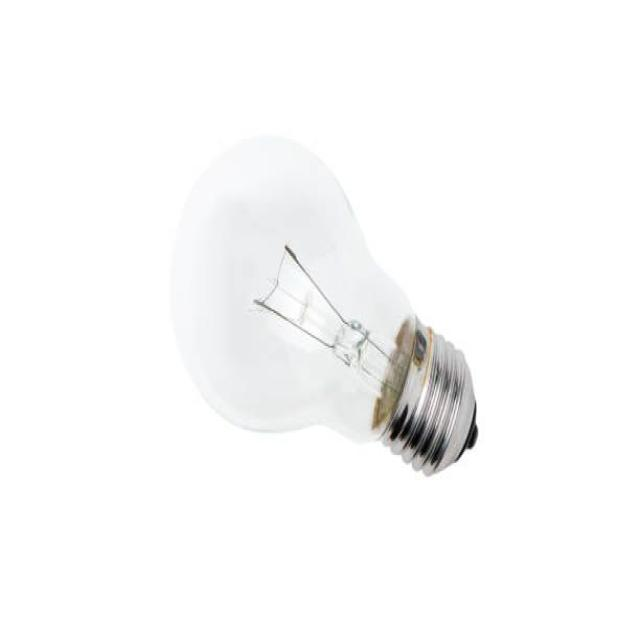electronic: (168, 131, 478, 477)
